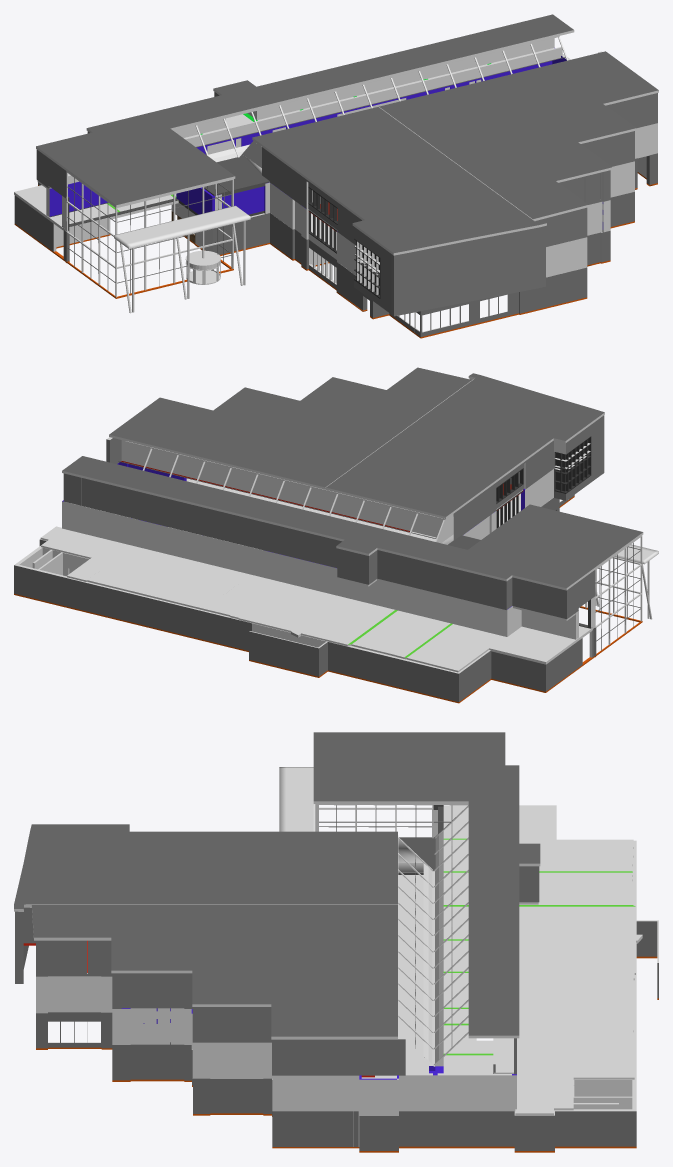
File: RECEPTION_SEPERATED.fbx
3 views of the same model, one above another, from view 1: azimuth 30°, elevation 25°; view 2: azimuth 150°, elevation 25°; view 3: azimuth 270°, elevation 25° (orthographic). The views are drawn at different scales.
Visible parts, largest first — view 1: Cube.017, Cube.016, Cube.008, Cube.013, Cube.014, Cube.015, Cube.010, Cube.009, Cube.011, Cylinder.003, Cylinder; view 2: Cube.017, Cube.016, Cube.009, Cube.008, Cube.013, Cube.014, Cube.010, Cube.011, Cube.015; view 3: Cube.017, Cube.009, Cube.008, Cube.013, Cube.016, Cube.014, Cube.015, Cube.011.
Part boxes in pixels (box(x1,y1,x2,y2)): Cube.017: box(36, 14, 658, 255); Cube.016: box(36, 38, 657, 316); Cube.008: box(14, 153, 657, 336); Cube.013: box(46, 54, 657, 277); Cube.014: box(66, 36, 568, 248); Cube.015: box(37, 48, 560, 230); Cube.010: box(66, 196, 233, 297); Cube.009: box(14, 185, 336, 250); Cube.011: box(14, 172, 657, 338); Cylinder.003: box(120, 221, 245, 313); Cylinder: box(185, 250, 220, 284); Cube.017: box(62, 367, 643, 590); Cube.016: box(63, 378, 604, 618); Cube.009: box(40, 478, 593, 672); Cube.008: box(14, 495, 596, 701); Cube.013: box(62, 462, 594, 639); Cube.014: box(118, 441, 658, 597); Cube.010: box(585, 557, 642, 650); Cube.011: box(14, 496, 642, 703); Cube.015: box(121, 461, 575, 620); Cube.017: box(14, 732, 540, 1039); Cube.009: box(361, 805, 642, 1115); Cube.008: box(36, 807, 658, 1150); Cube.013: box(36, 805, 516, 1115); Cube.016: box(15, 866, 539, 1075); Cube.014: box(279, 767, 468, 1066); Cube.015: box(23, 837, 538, 1077); Cube.011: box(36, 956, 658, 1152).
Bounding box in the file's own units: 19352 × 3468 × 17043.
